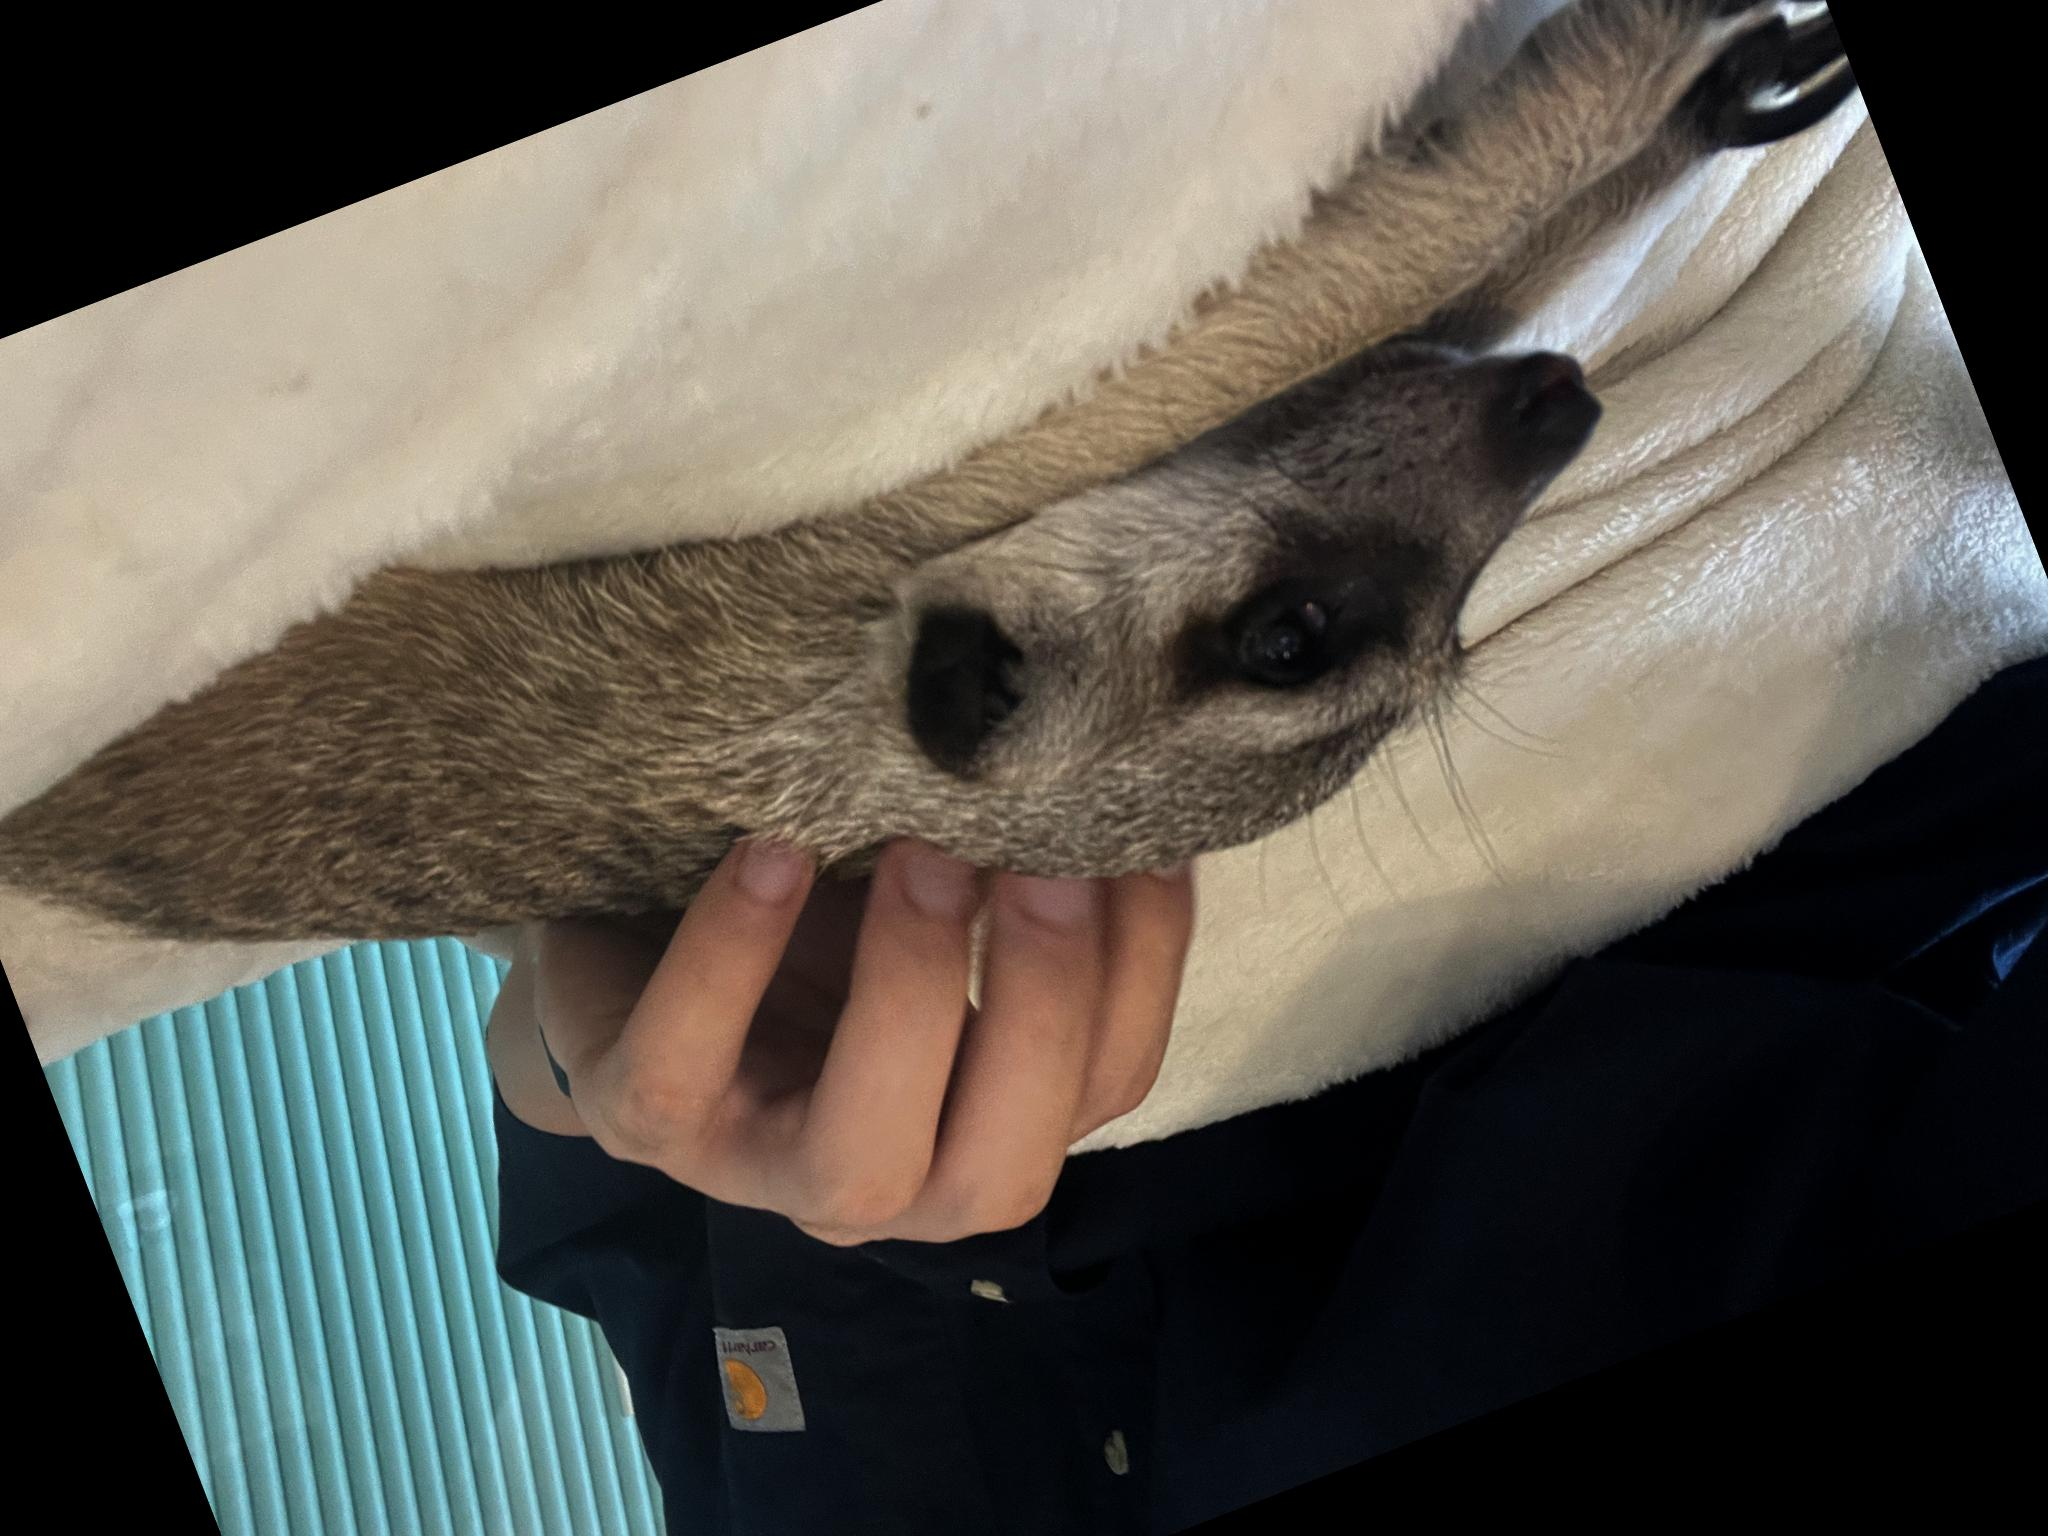meerkat: (0, 187, 2048, 1536)
